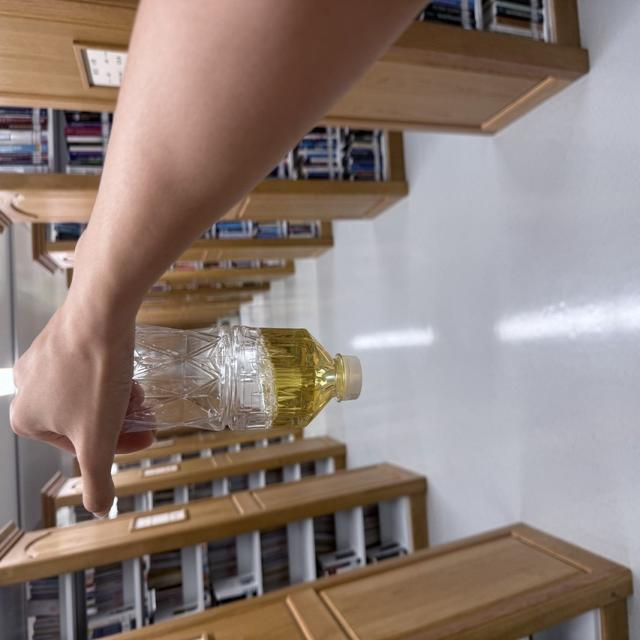low: (123, 325, 362, 431)
